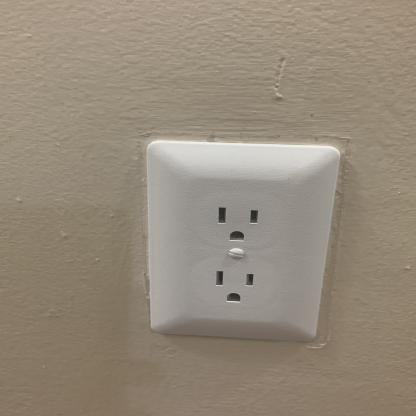OUTLET: (144, 140, 340, 344)
